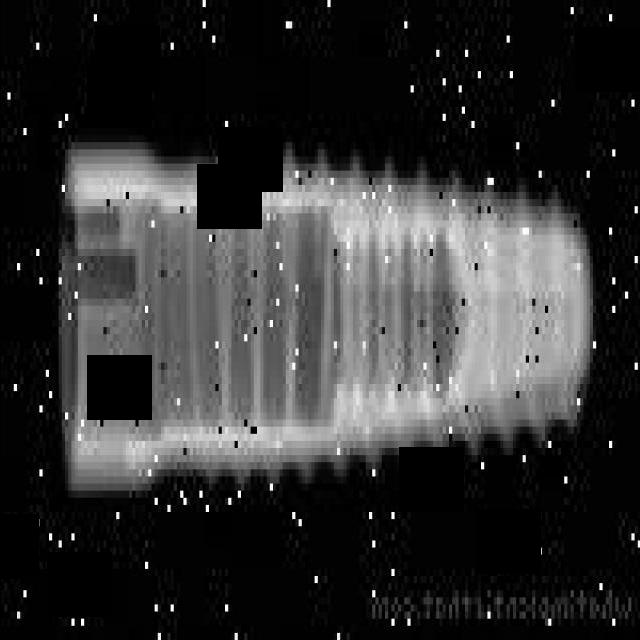Root canal obturation: (60, 136, 600, 498)
